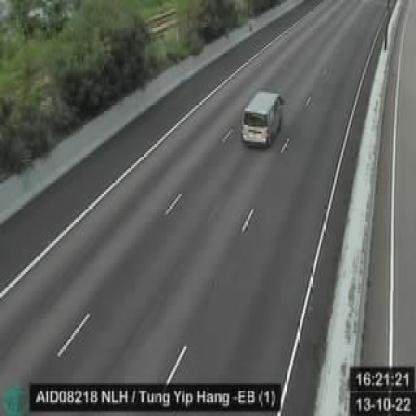Car: (240, 88, 285, 148)
